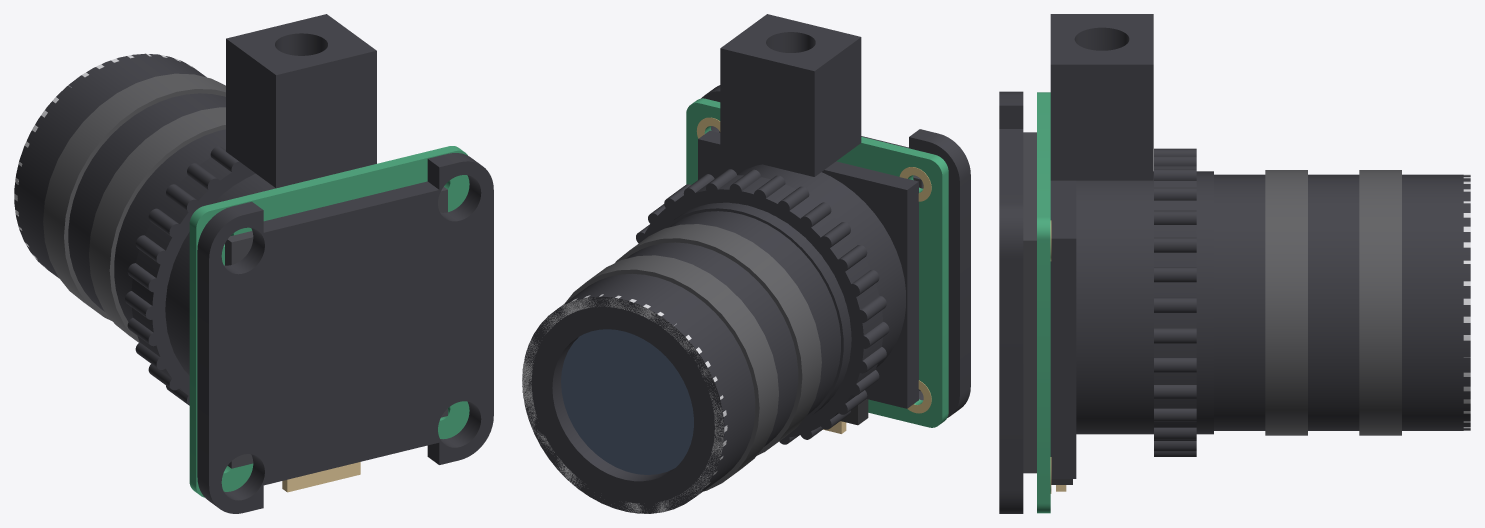
Rendered from rgb_cam.glb.
3 renders of one model, left to right at view 1: azimuth 30°, elevation 25°; view 2: azimuth 150°, elevation 25°; view 3: azimuth 270°, elevation 25°, orthographic. The views are drawn at different scales.
Parts seen in each view (by area): view 1: c_0f0f11, c_1e1e21, c_146b38, ic, c_d8a559; view 2: c_0f0f11, c_1e1e21, c_192338, c_146b38, c_bfbfc6, c_d8a84c; view 3: c_0f0f11, c_1e1e21, c_146b38, ic, c_bfbfc6.
Part boxes in pixels (x1,y1,x2,y2): c_0f0f11: (14, 14, 493, 513); c_1e1e21: (43, 73, 225, 342); c_146b38: (189, 146, 469, 497); ic: (225, 187, 447, 468); c_d8a559: (282, 462, 360, 492); c_0f0f11: (522, 14, 970, 513); c_1e1e21: (565, 224, 821, 491); c_192338: (561, 329, 693, 474); c_146b38: (686, 98, 948, 427); c_bfbfc6: (522, 294, 727, 513); c_d8a84c: (696, 117, 931, 413); c_0f0f11: (999, 14, 1470, 513); c_1e1e21: (1265, 170, 1401, 435); c_146b38: (1037, 92, 1050, 513); ic: (1023, 132, 1036, 473); c_bfbfc6: (1463, 174, 1470, 430).
Bounding box in the file's own units: 0.0395 × 0.056 × 0.0551.
